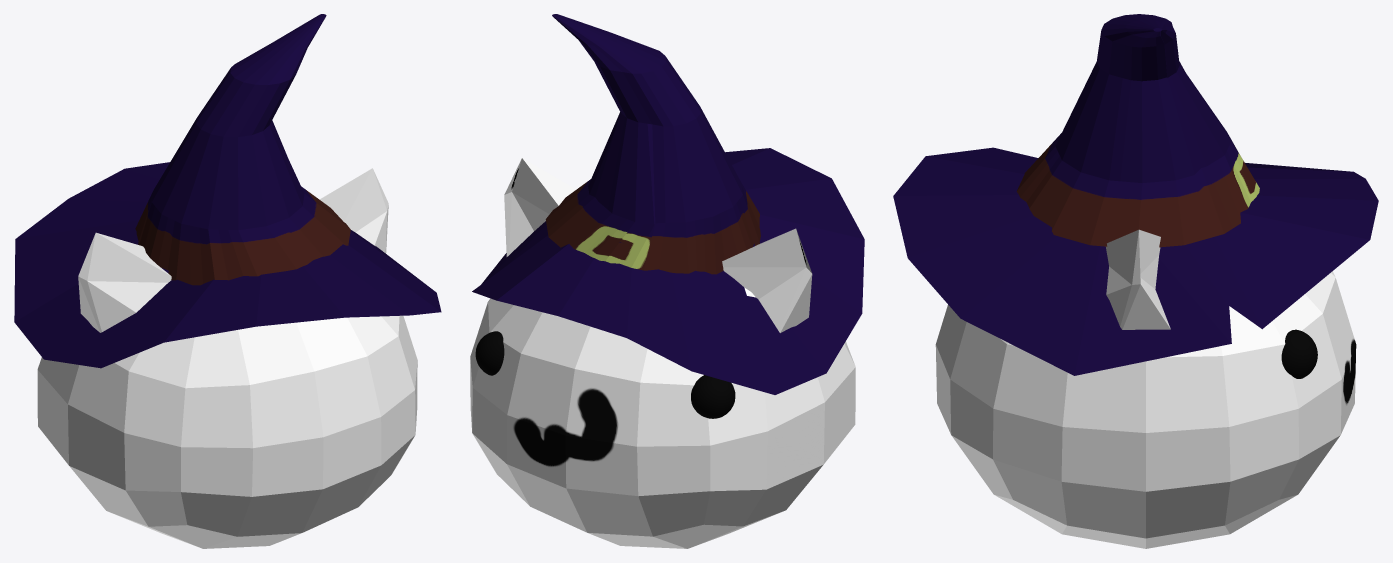
Rendered from Wizard_Cat.glb.
The picture shows the model from 3 angles, left to right: view 1: azimuth 30°, elevation 25°; view 2: azimuth 150°, elevation 25°; view 3: azimuth 270°, elevation 25°; orthographic projection. The views are drawn at different scales.
Visible parts, largest first — view 1: Icosphere.002, Cylinder; view 2: Cylinder, Icosphere.002, Sphere.001, Sphere; view 3: Cylinder, Icosphere.002, Sphere.
Boxes of the visible parts, left/top/right/bottom form: Icosphere.002: left=37, top=168, right=417, bottom=548; Cylinder: left=14, top=14, right=441, bottom=368; Cylinder: left=472, top=14, right=864, bottom=394; Icosphere.002: left=470, top=158, right=855, bottom=548; Sphere.001: left=691, top=375, right=735, bottom=418; Sphere: left=475, top=331, right=504, bottom=375; Cylinder: left=893, top=14, right=1378, bottom=375; Icosphere.002: left=935, top=229, right=1356, bottom=548; Sphere: left=1281, top=329, right=1317, bottom=378.
Size of the model in its own units: 2.07 by 2.75 by 2.21.
Materials: 4 (4 with a texture image).
